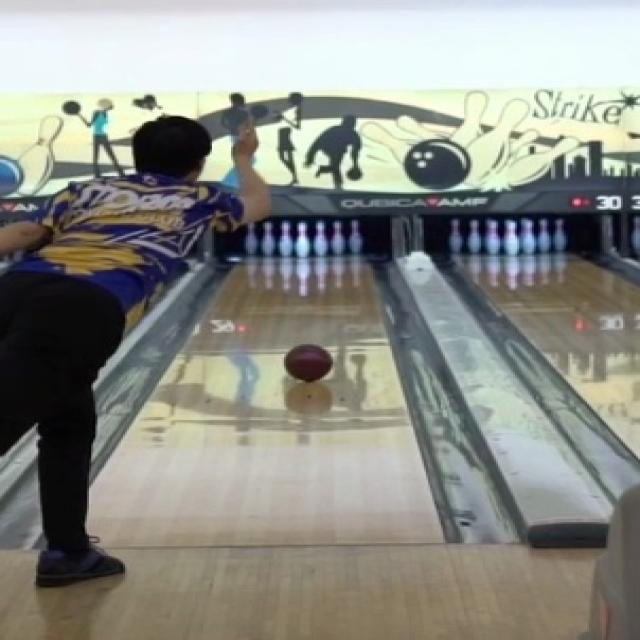alley: (93, 260, 441, 545)
balls: (284, 344, 331, 381)
bottle: (235, 219, 367, 257)
